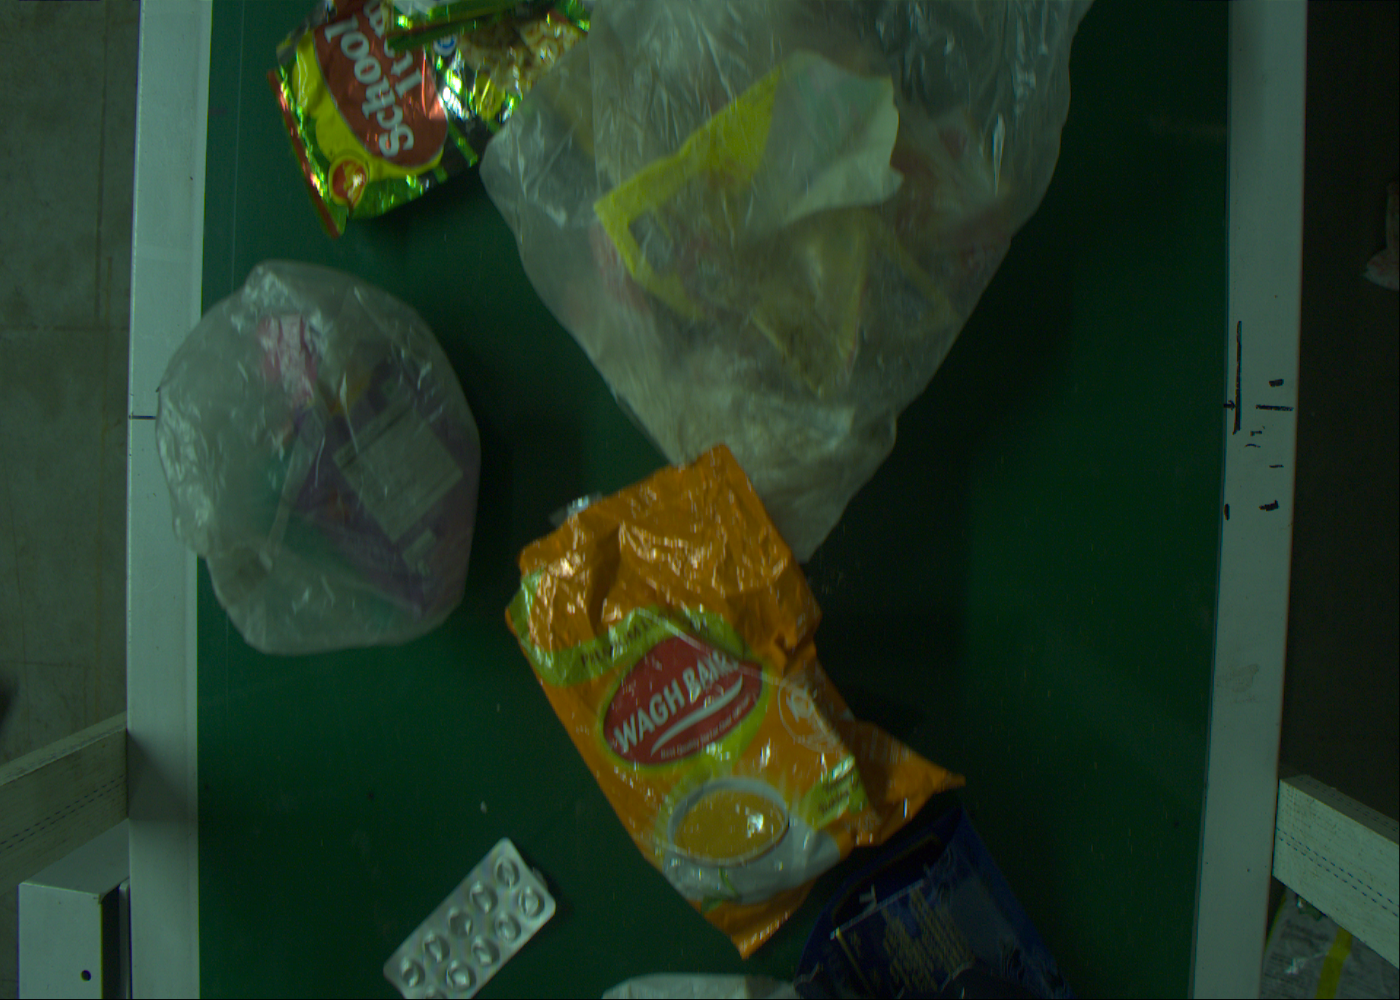hm_ldpe: (489, 1, 1092, 563), (150, 246, 492, 661)
multilayer_plastic: (514, 458, 922, 916), (283, 1, 527, 233)
